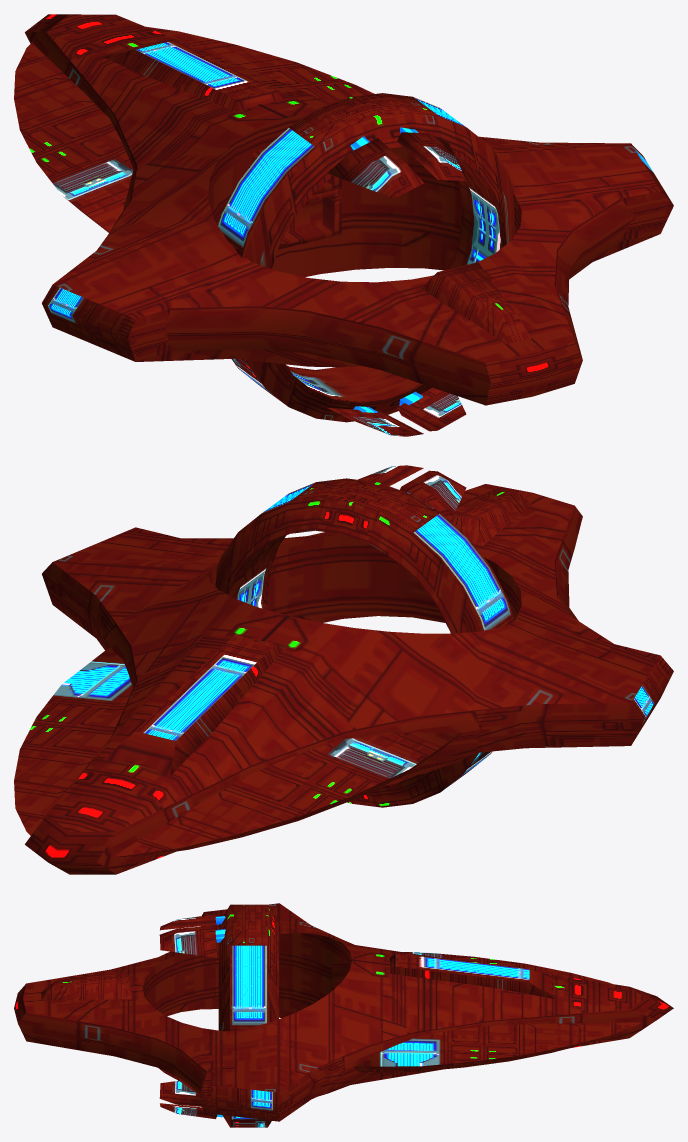
The model's file is Vul_Trankis.fbx.
3 views of the same model, one above another, from view 1: azimuth 30°, elevation 25°; view 2: azimuth 150°, elevation 25°; view 3: azimuth 270°, elevation 25° (orthographic). The views are drawn at different scales.
Parts seen in each view (by area): view 1: Vul_Trankis; view 2: Vul_Trankis; view 3: Vul_Trankis.
Part boxes in pixels (<box>): Vul_Trankis: <box>14,14,673,436</box>; Vul_Trankis: <box>14,465,673,874</box>; Vul_Trankis: <box>14,903,673,1127</box>.
Size of the model in its own units: 607 by 290 by 858.
1 material, 1 textured.
